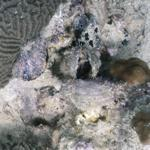dead: (4, 2, 148, 148)
